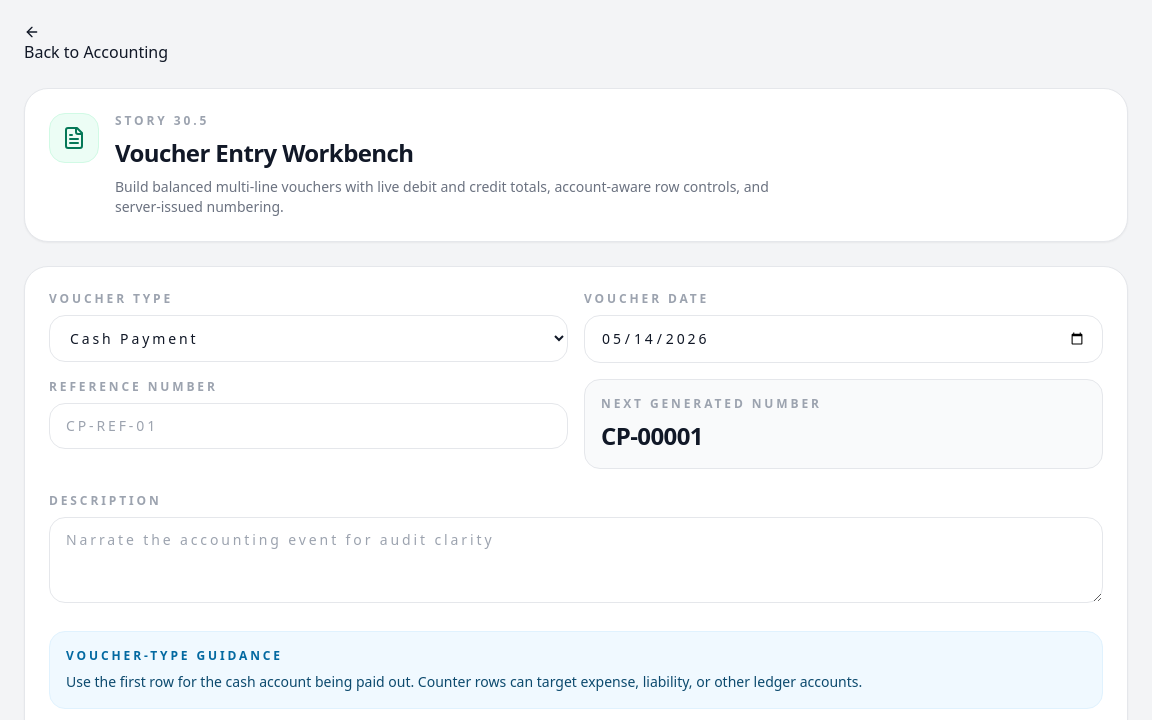
Scenario: AccountingVouchersPage — Story 30.5 › updates the preview number when the voucher type changes
Expected: the text "CP-00001" is shown, [601,419,703,452]
Select "Journal Voucher" in the dropdown labelled "Voucher type": [308, 338] box [49,315,568,362]
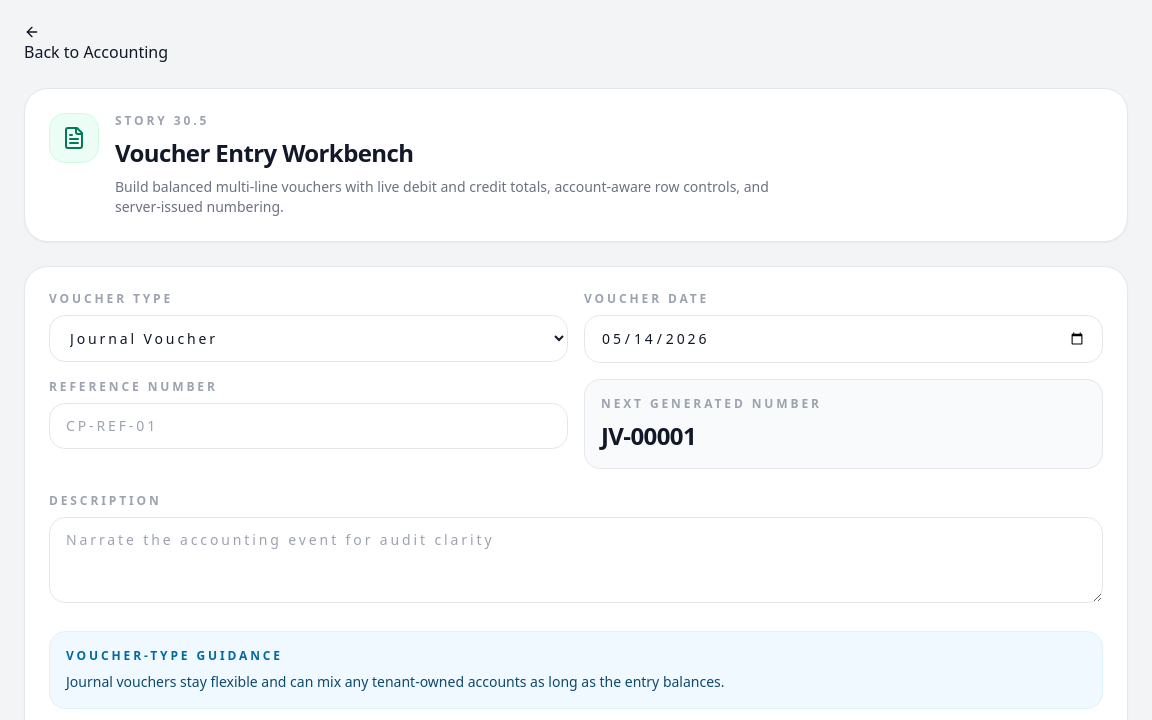
Expected: the text "JV-00001" is shown, [601,419,696,452]
